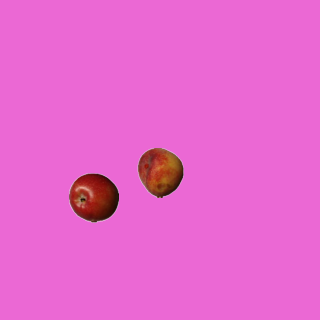Apple Braeburn: (68, 172, 118, 222)
Peach: (135, 147, 185, 197)
